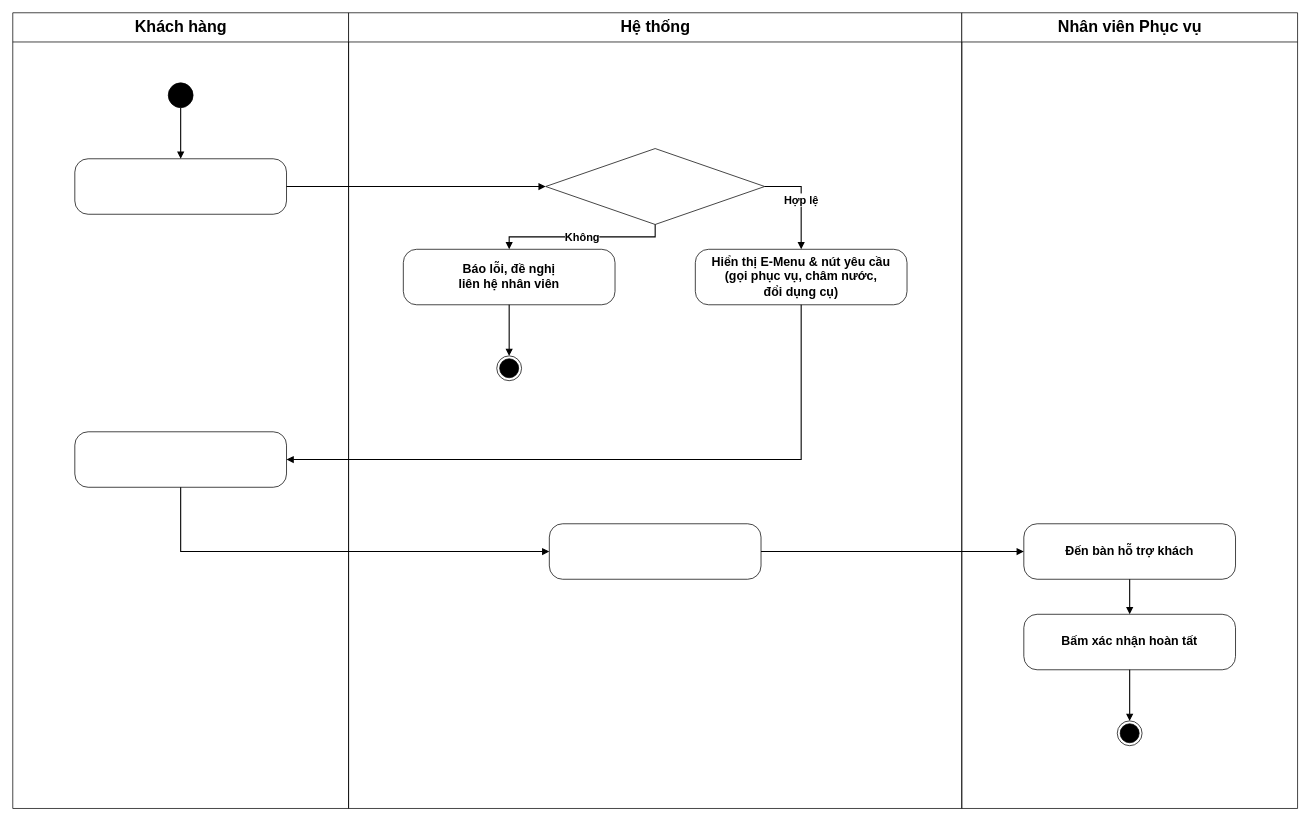
Some shapes in this 1310 by 821 pixel diagram are drawn without their labels. Each missing label, with the centre of its shape:
"Chọn yêu cầu & bấm Gửi" belongs at pixel 180 459.
"Lưu yêu cầu, gửi thông báo tới thiết bị phục vụ" belongs at pixel 655 551.
"QR hợp lệ & bàn đã check-in?" belongs at pixel 655 186.
"Quét mã QR tại bàn" belongs at pixel 180 186.
